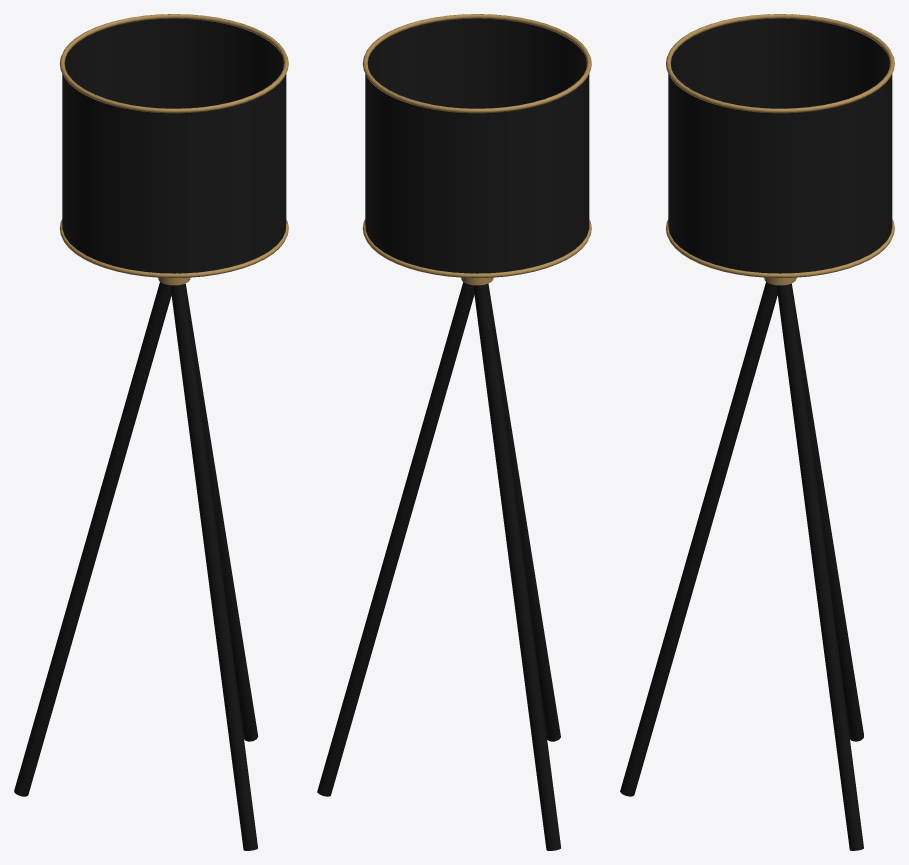
Rendered from lampara-tripode.glb.
3 views of the same model, side by side, from view 1: azimuth 30°, elevation 25°; view 2: azimuth 150°, elevation 25°; view 3: azimuth 270°, elevation 25° (orthographic).
Parts seen in each view (by area): view 1: lampara-tripode; view 2: lampara-tripode; view 3: lampara-tripode.
Boxes of the visible parts, x1,y1,x2,y2 form: lampara-tripode: (14, 14, 288, 850); lampara-tripode: (317, 14, 591, 850); lampara-tripode: (620, 14, 894, 850).
Bounding box in the file's own units: 0.4492 × 1.3 × 0.4415.
